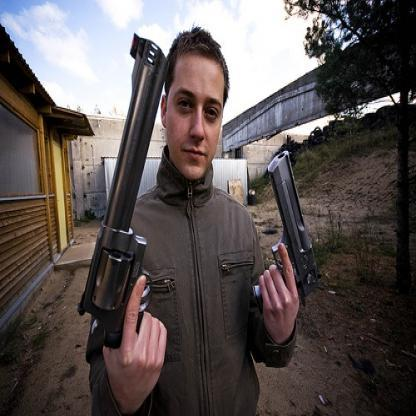gun: (81, 18, 158, 374), (261, 136, 327, 302)
